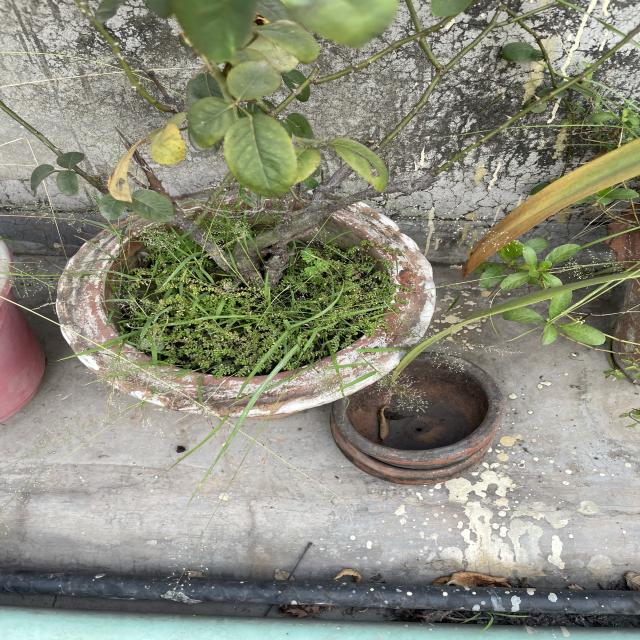Breeding Place: (61, 193, 424, 415), (342, 352, 506, 487)
